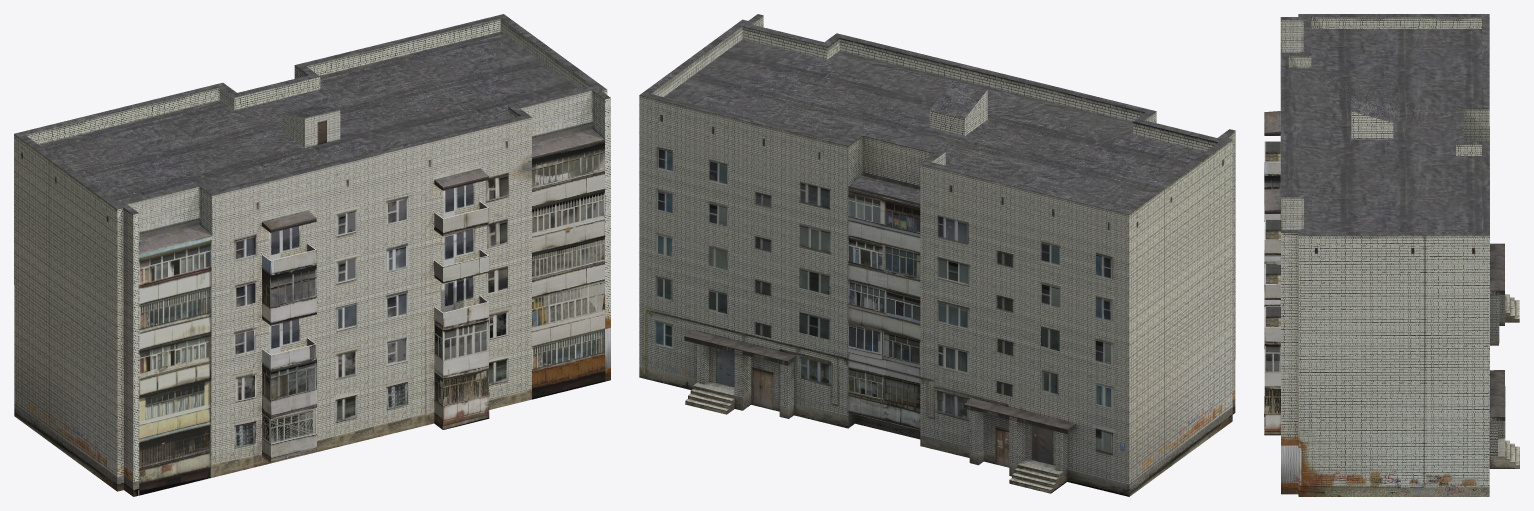
3 renders of one model, left to right at view 1: azimuth 30°, elevation 25°; view 2: azimuth 150°, elevation 25°; view 3: azimuth 270°, elevation 25°, orthographic. The views are drawn at different scales.
Parts seen in each view (by area): view 1: 5tietazhka2_0; view 2: 5tietazhka2_0; view 3: 5tietazhka2_0.
Boxes of the visible parts, box(x1,y1,x2,y2) form: 5tietazhka2_0: box(14, 14, 610, 496); 5tietazhka2_0: box(639, 14, 1235, 496); 5tietazhka2_0: box(1264, 14, 1519, 496).
Size of the model in its own units: 32.05 by 18.76 by 15.64.
4 materials, 4 textured.
